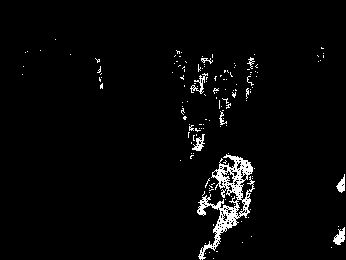person: (198, 151, 254, 260), (181, 77, 209, 158), (214, 66, 239, 129)
